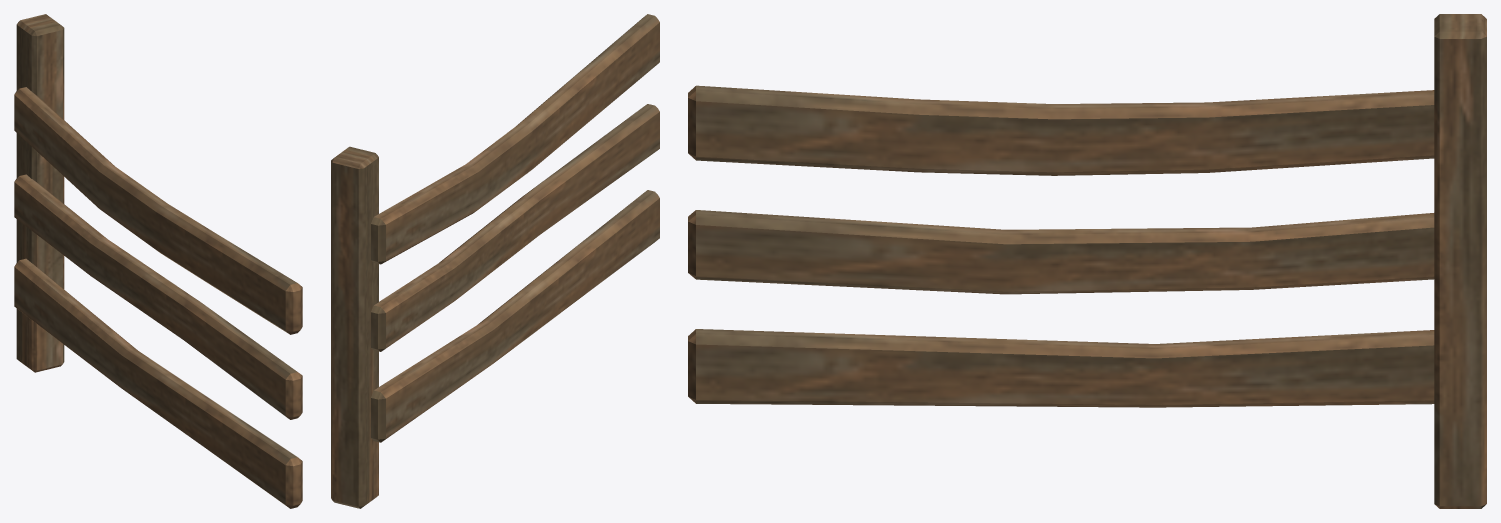
The model's file is SM_fence_03.fbx.
The picture shows the model from 3 angles, left to right: view 1: azimuth 30°, elevation 25°; view 2: azimuth 150°, elevation 25°; view 3: azimuth 270°, elevation 25°; orthographic projection. The views are drawn at different scales.
Parts seen in each view (by area): view 1: SM_fence_03_LOD0; view 2: SM_fence_03_LOD0; view 3: SM_fence_03_LOD0.
Part boxes in pixels (x1,y1,x2,y2): SM_fence_03_LOD0: (14,14,302,508); SM_fence_03_LOD0: (331,14,659,508); SM_fence_03_LOD0: (688,14,1486,508).
Bounding box in the file's own units: 20.13 × 207 × 136.
Materials: 1 (1 with a texture image).
